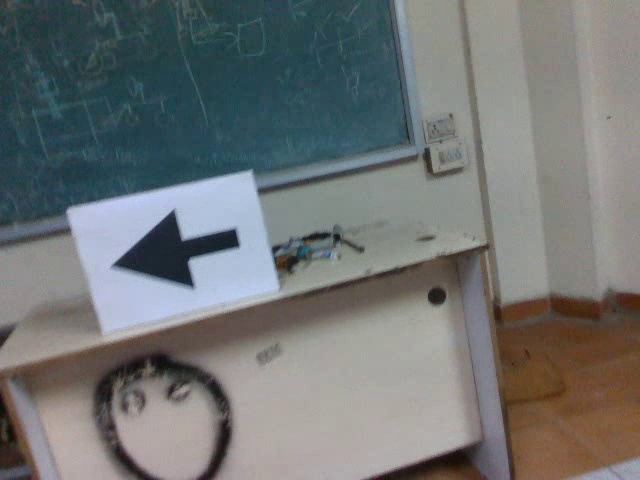Left: (104, 207, 244, 294)
